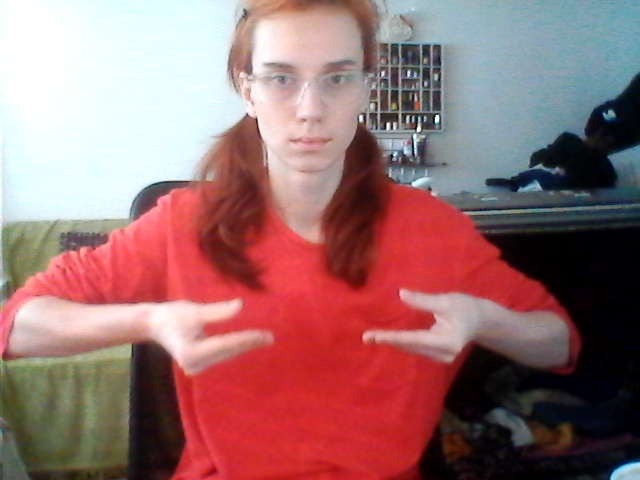drzat: (159, 278, 473, 370)
